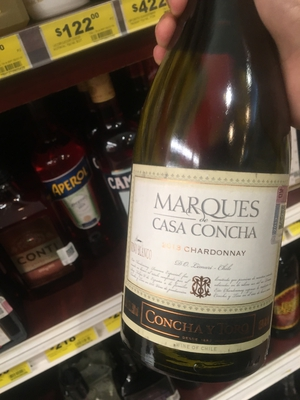marques de casa concha chardonnay: (119, 20, 290, 384)
